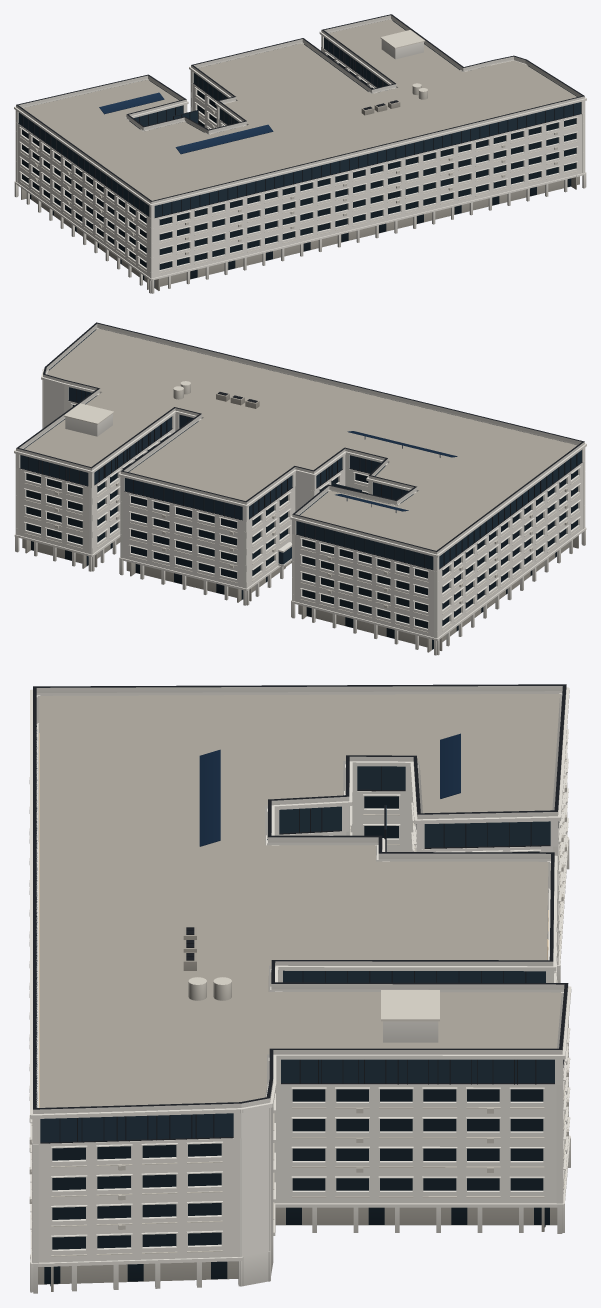
File: c_block.glb
3 views of the same model, one above another, from view 1: azimuth 30°, elevation 25°; view 2: azimuth 150°, elevation 25°; view 3: azimuth 270°, elevation 25° (orthographic). The views are drawn at different scales.
Visible parts, largest first — view 1: LOD0_High_RoofSlabConcrete, LOD0_High_StuccoWhite, LOD1_Medium_StuccoWhite, LOD1_Medium_RecessedCavityGlass, LOD0_High_CurtainGlass, LOD0_High_StuccoWarmTrim, LOD0_High_DarkAnodizedSteel, LOD0_High_SolarPV, LOD0_High_RecessedCavityGlass, LOD0_High_ConcreteMuted; view 2: LOD0_High_RoofSlabConcrete, LOD0_High_StuccoWhite, LOD1_Medium_StuccoWhite, LOD1_Medium_RecessedCavityGlass, LOD0_High_CurtainGlass, LOD0_High_StuccoWarmTrim, LOD0_High_DarkAnodizedSteel, LOD0_High_RecessedCavityGlass, LOD0_High_SolarPV, LOD0_High_ConcreteMuted; view 3: LOD0_High_RoofSlabConcrete, LOD0_High_StuccoWhite, LOD1_Medium_StuccoWhite, LOD0_High_CurtainGlass, LOD1_Medium_RecessedCavityGlass, LOD0_High_StuccoWarmTrim, LOD0_High_DarkAnodizedSteel, LOD0_High_SolarPV, LOD0_High_RecessedCavityGlass, LOD0_High_ConcreteMuted.
Boxes of the visible parts, <box> form: LOD0_High_RoofSlabConcrete: <box>23,19,576,200</box>; LOD0_High_StuccoWhite: <box>14,15,586,293</box>; LOD1_Medium_StuccoWhite: <box>15,48,585,278</box>; LOD1_Medium_RecessedCavityGlass: <box>22,55,576,269</box>; LOD0_High_CurtainGlass: <box>18,20,581,217</box>; LOD0_High_StuccoWarmTrim: <box>20,30,579,290</box>; LOD0_High_DarkAnodizedSteel: <box>16,14,584,217</box>; LOD0_High_SolarPV: <box>99,92,273,154</box>; LOD0_High_RecessedCavityGlass: <box>30,178,571,287</box>; LOD0_High_ConcreteMuted: <box>35,110,557,254</box>; LOD0_High_RoofSlabConcrete: <box>24,328,576,550</box>; LOD0_High_StuccoWhite: <box>14,323,586,655</box>; LOD1_Medium_StuccoWhite: <box>15,400,585,638</box>; LOD1_Medium_RecessedCavityGlass: <box>26,405,577,628</box>; LOD0_High_CurtainGlass: <box>20,329,581,569</box>; LOD0_High_StuccoWarmTrim: <box>22,381,580,652</box>; LOD0_High_DarkAnodizedSteel: <box>16,322,584,570</box>; LOD0_High_RecessedCavityGlass: <box>31,541,556,649</box>; LOD0_High_SolarPV: <box>335,431,457,511</box>; LOD0_High_ConcreteMuted: <box>54,482,567,608</box>; LOD0_High_RoofSlabConcrete: <box>39,694,561,1107</box>; LOD0_High_StuccoWhite: <box>30,685,571,1293</box>; LOD1_Medium_StuccoWhite: <box>32,743,568,1263</box>; LOD0_High_CurtainGlass: <box>40,766,554,1142</box>; LOD1_Medium_RecessedCavityGlass: <box>36,726,543,1249</box>; LOD0_High_StuccoWarmTrim: <box>31,760,568,1291</box>; LOD0_High_DarkAnodizedSteel: <box>33,684,568,1143</box>; LOD0_High_SolarPV: <box>199,733,460,846</box>; LOD0_High_RecessedCavityGlass: <box>44,1207,549,1286</box>; LOD0_High_ConcreteMuted: <box>29,777,568,1229</box>.
Size of the model in its own units: 113 by 24.97 by 60.68.
